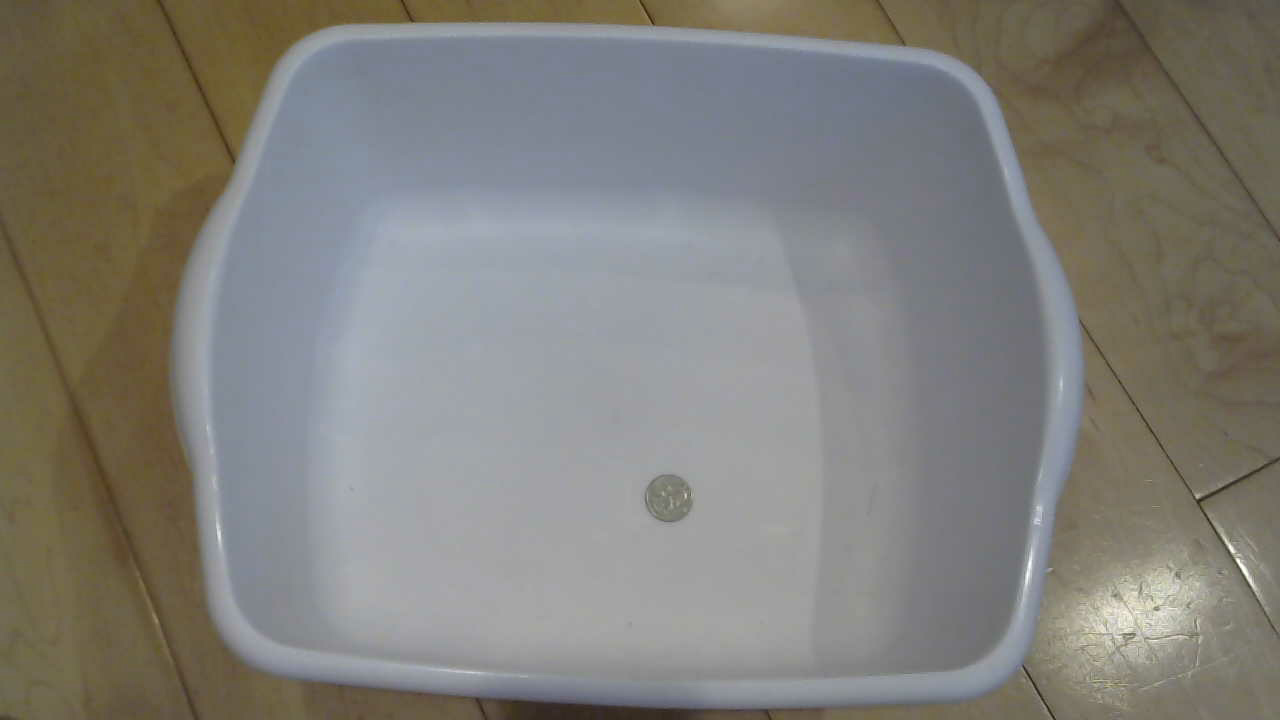coin: (642, 472, 706, 531)
